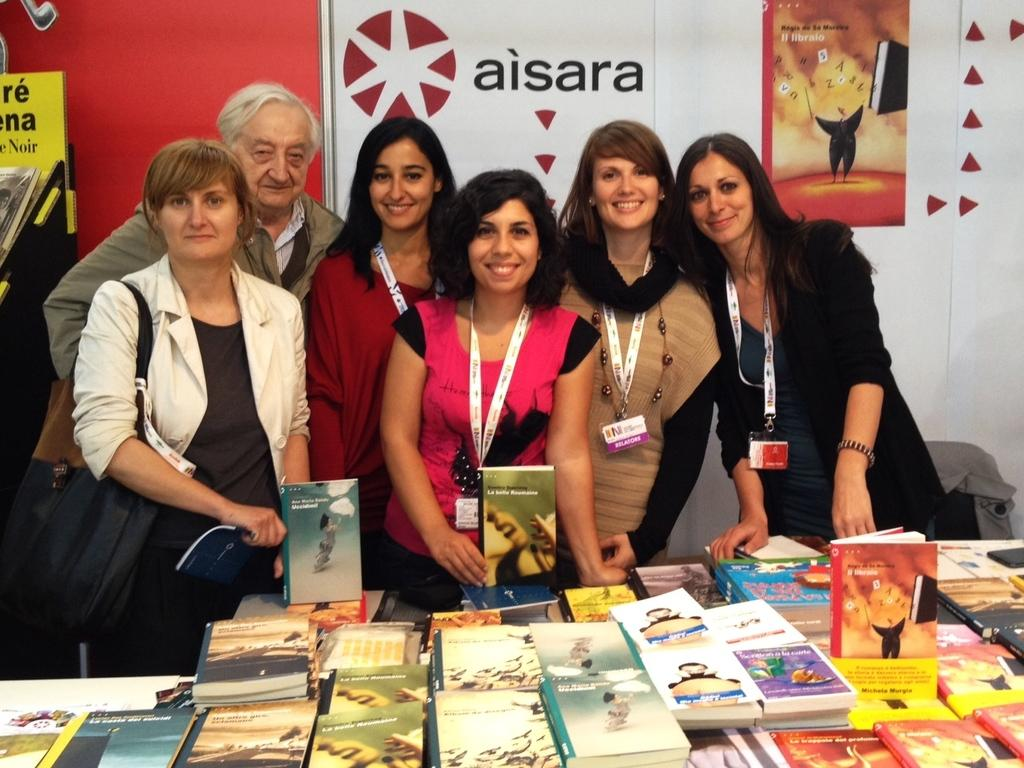Book: (0, 464, 1023, 767), (297, 645, 423, 740)
